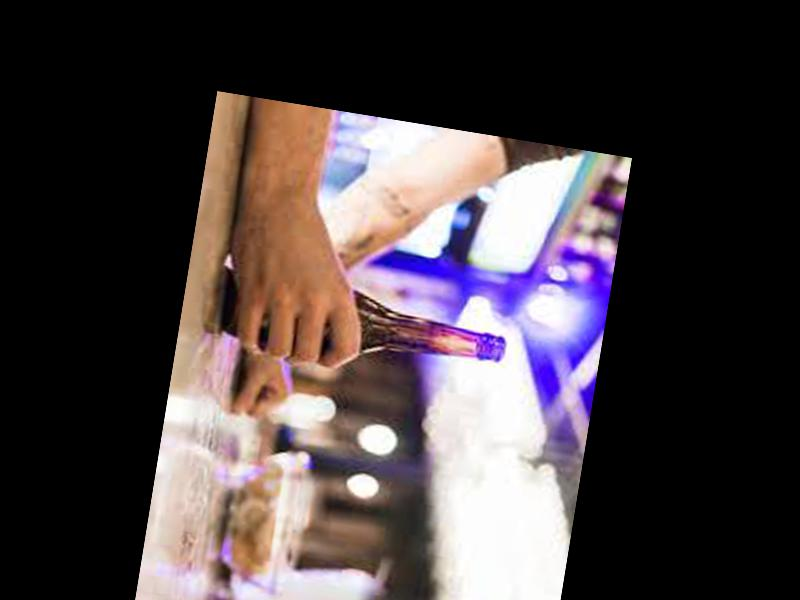Beer: (219, 270, 510, 378)
